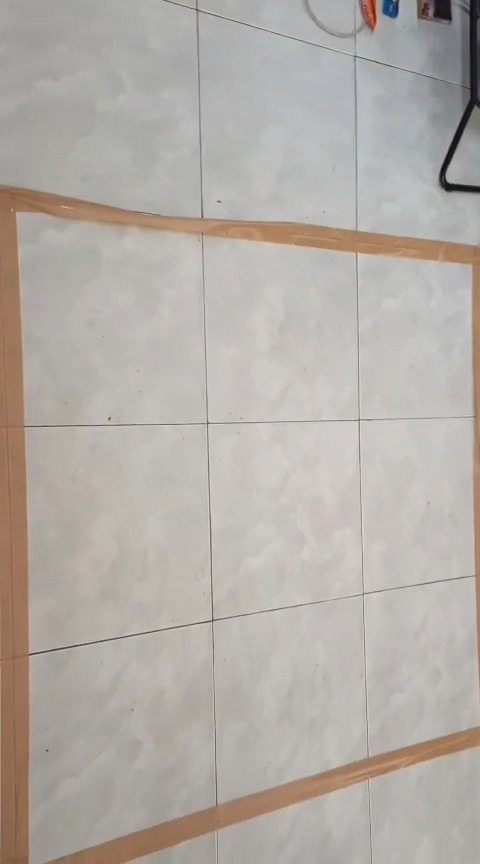floor marking: (0, 187, 479, 863), (52, 727, 479, 863)
